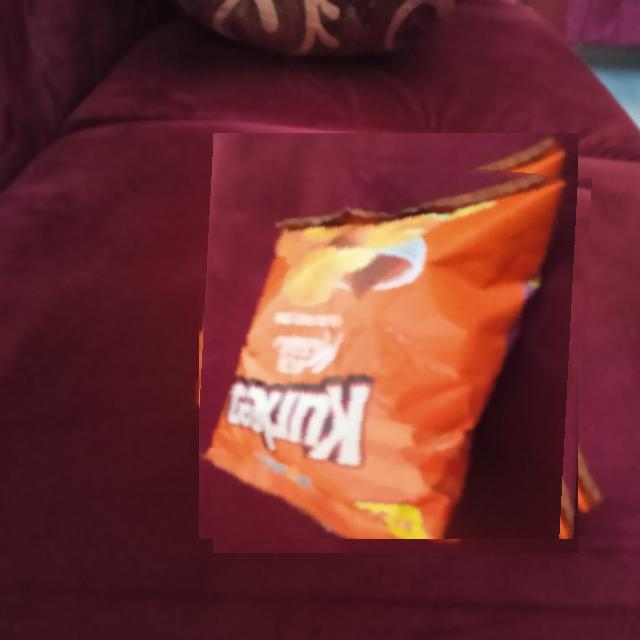Plastic: (199, 146, 592, 539)
